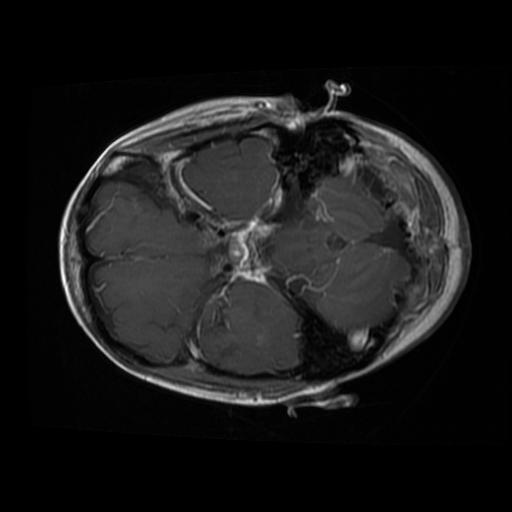glioma: (321, 230, 348, 252)
